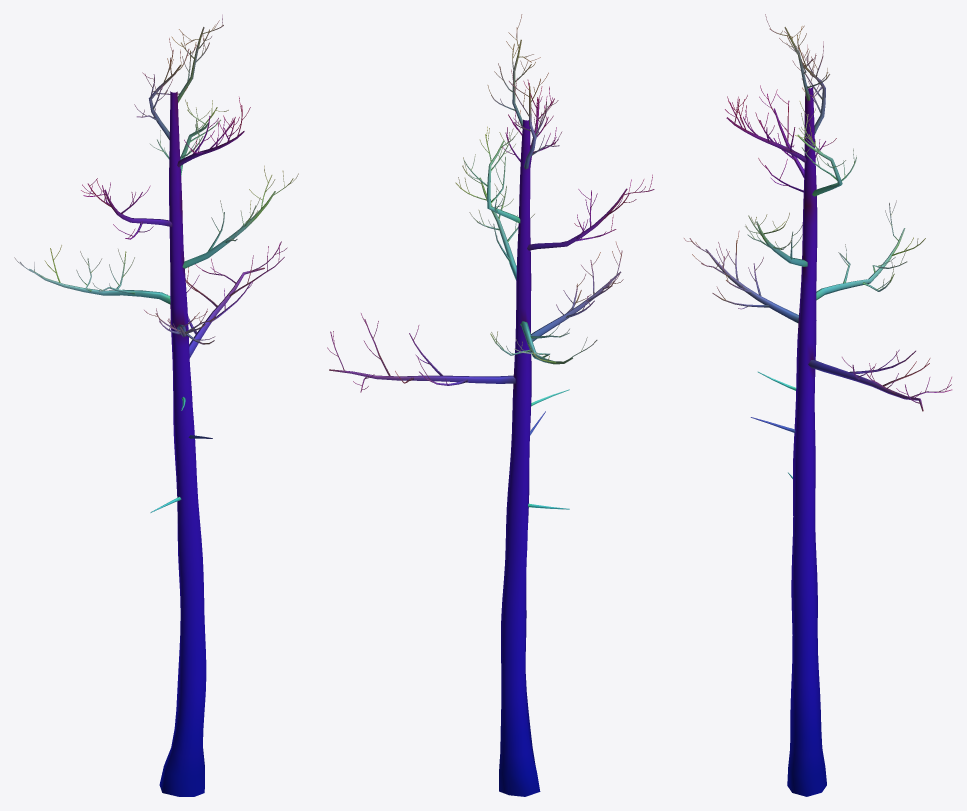
Rendered from pine-grove-a.glb.
3 views of the same model, side by side, from view 1: azimuth 30°, elevation 25°; view 2: azimuth 150°, elevation 25°; view 3: azimuth 270°, elevation 25° (orthographic). The views are drawn at different scales.
Parts seen in each view (by area): view 1: bark; view 2: bark; view 3: bark.
Part boxes in pixels (<box>): bark: <box>14,14,298,796</box>; bark: <box>327,14,654,796</box>; bark: <box>684,14,952,796</box>.
Size of the model in its own units: 8.63 by 23.78 by 7.42.
